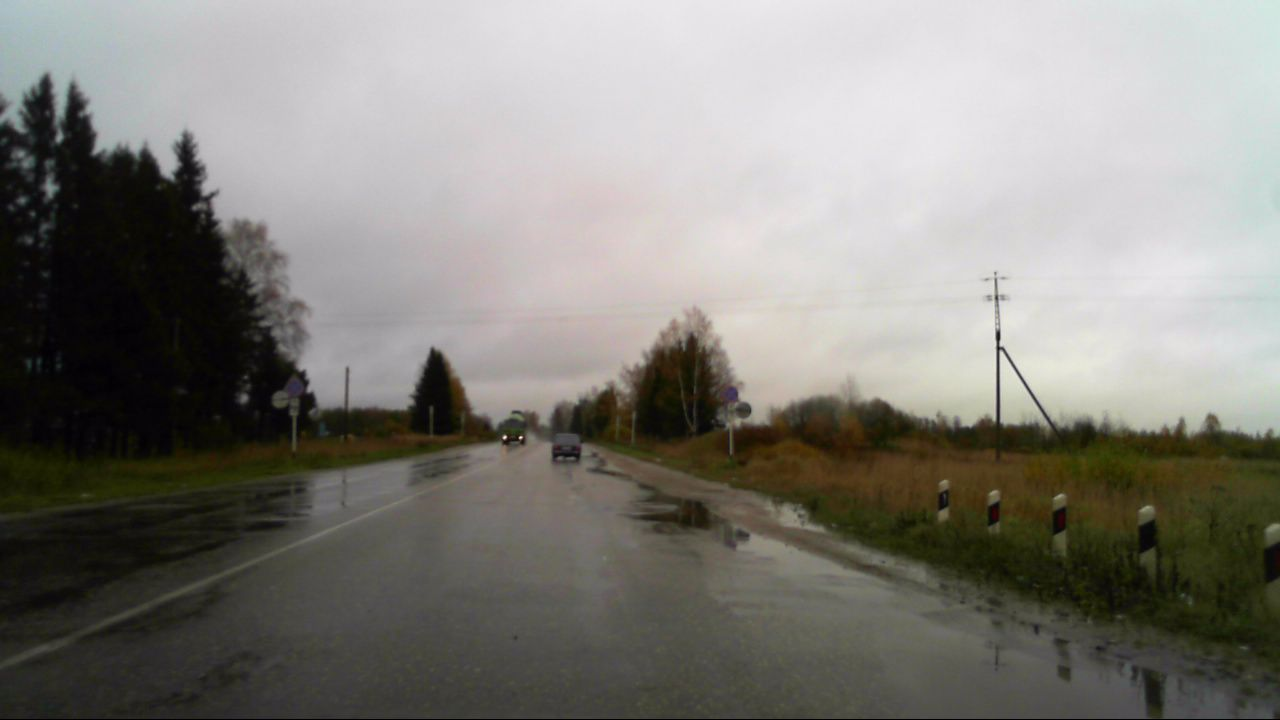No Parking: (284, 374, 305, 395)
